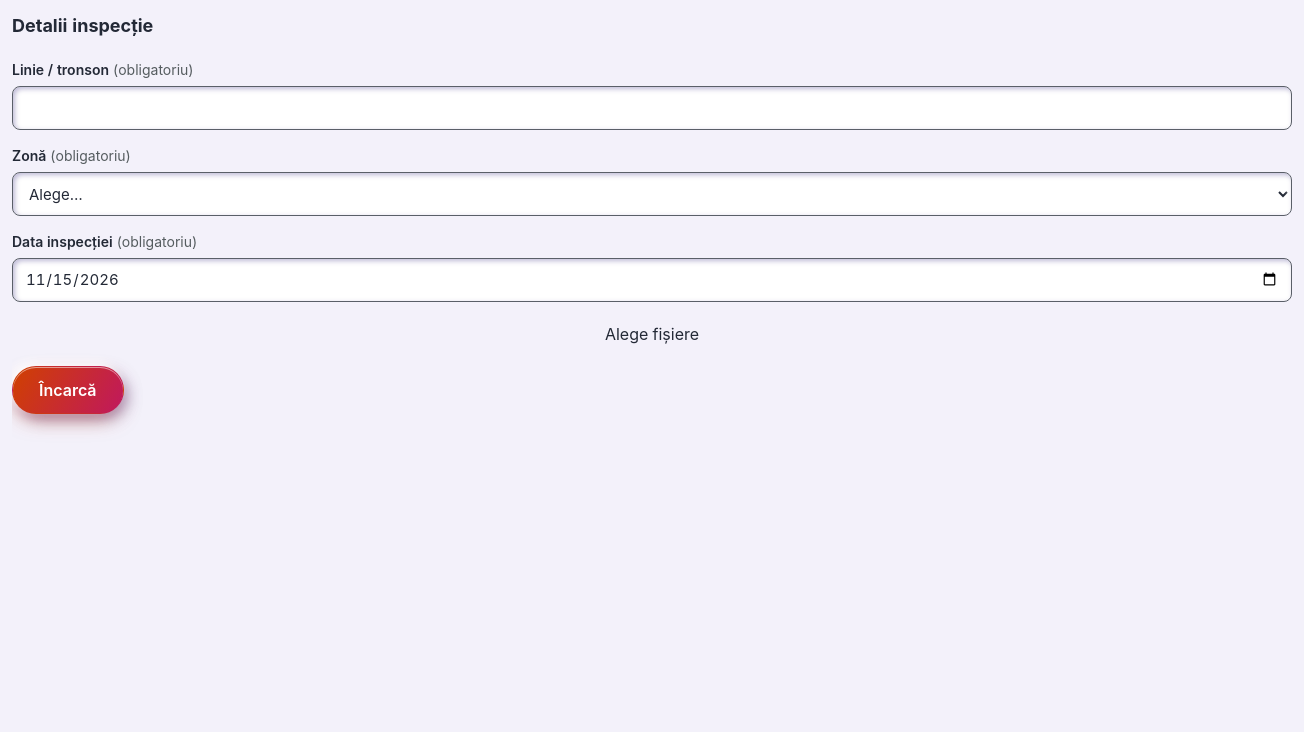
Test: MetadataForm › asks for a file when none is chosen
The width and height of the screenshot is (1304, 732).
Later steps or results of the test are not shown.
Type "LEA 110 kV Călărași – Oltenița" into the field labelled "Linie / tronson (obligatoriu)" at (652, 108), box [12, 86, 1292, 130]
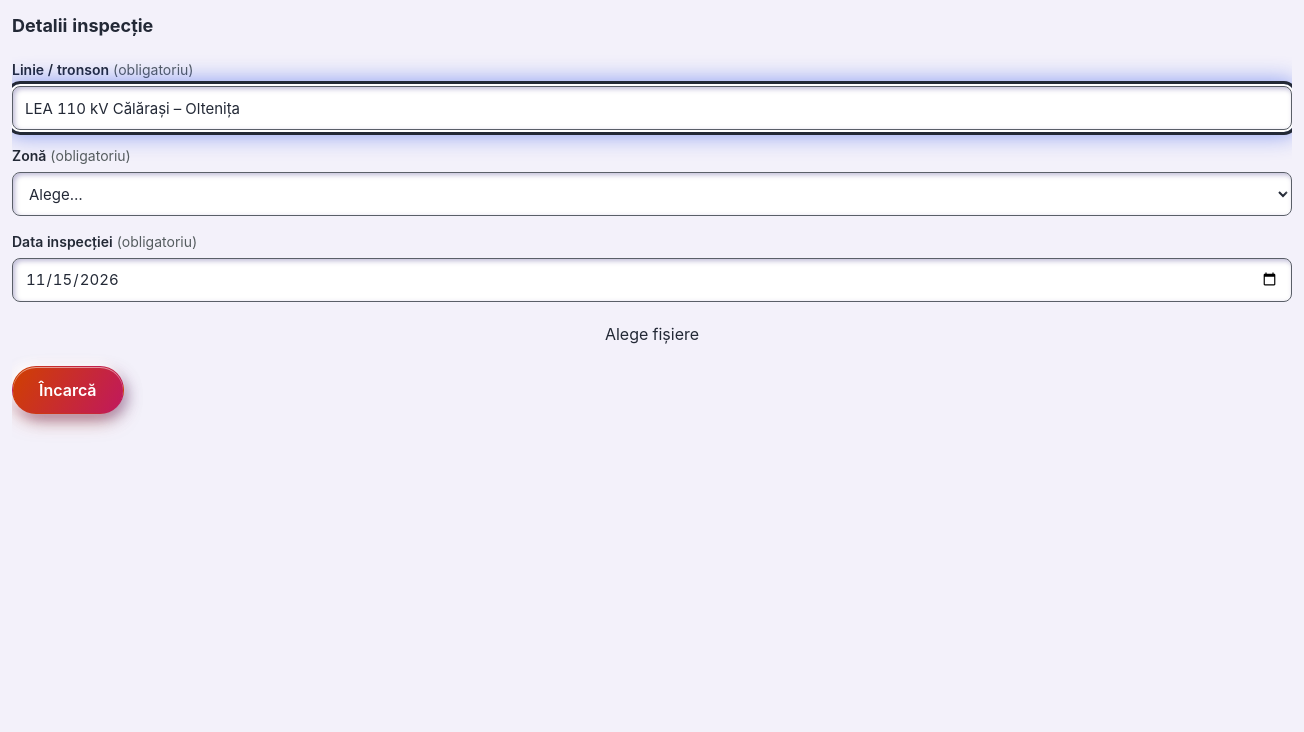
Select "Muntenia" in the dropdown labelled "Zonă (obligatoriu)" at (652, 194), box [12, 172, 1292, 216]
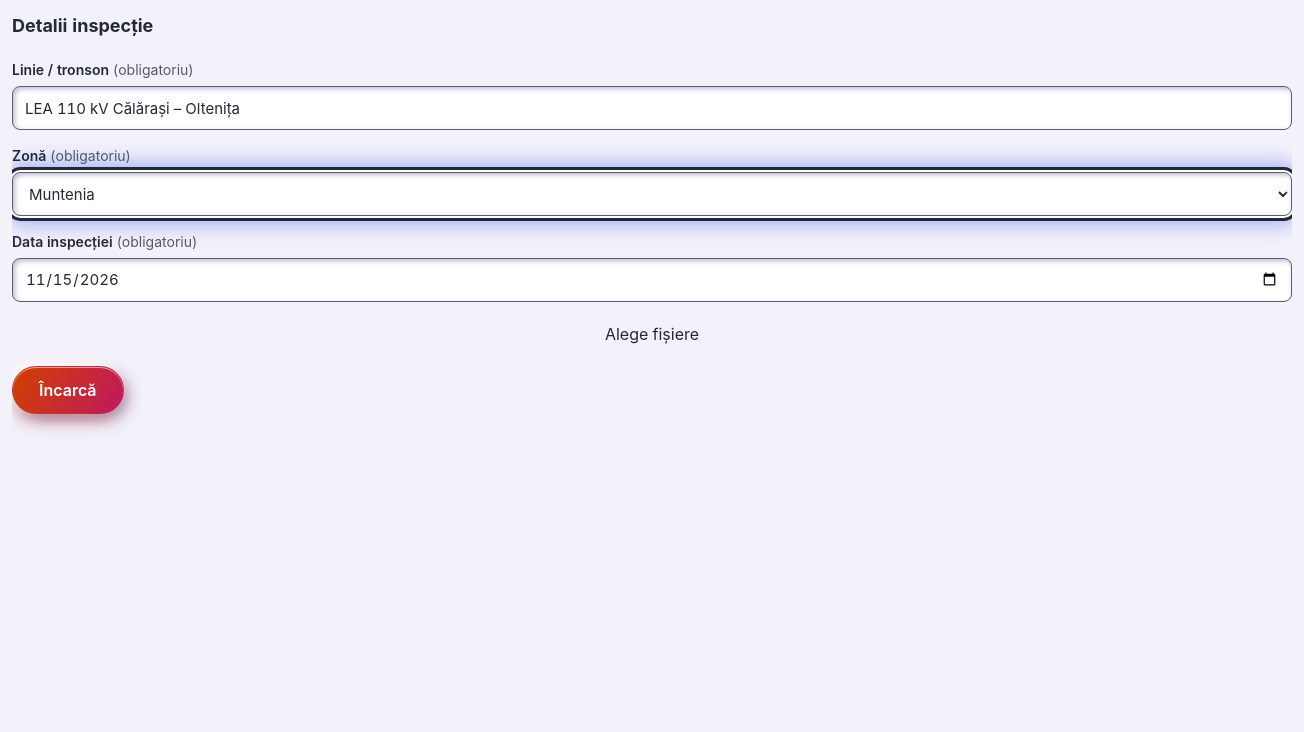
Click the button "Încarcă" at (68, 390), box [12, 366, 124, 414]
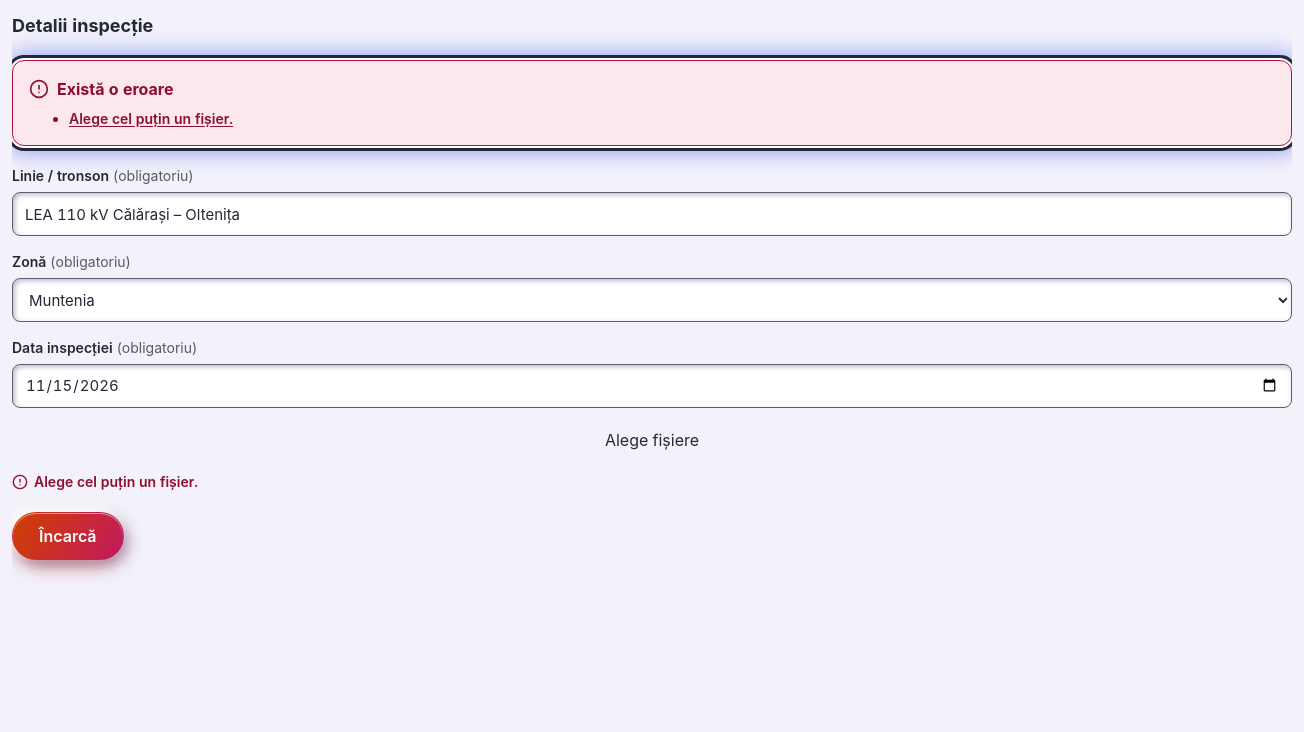
Expected: the heading "Există o eroare" is shown, [29, 79, 174, 99]
